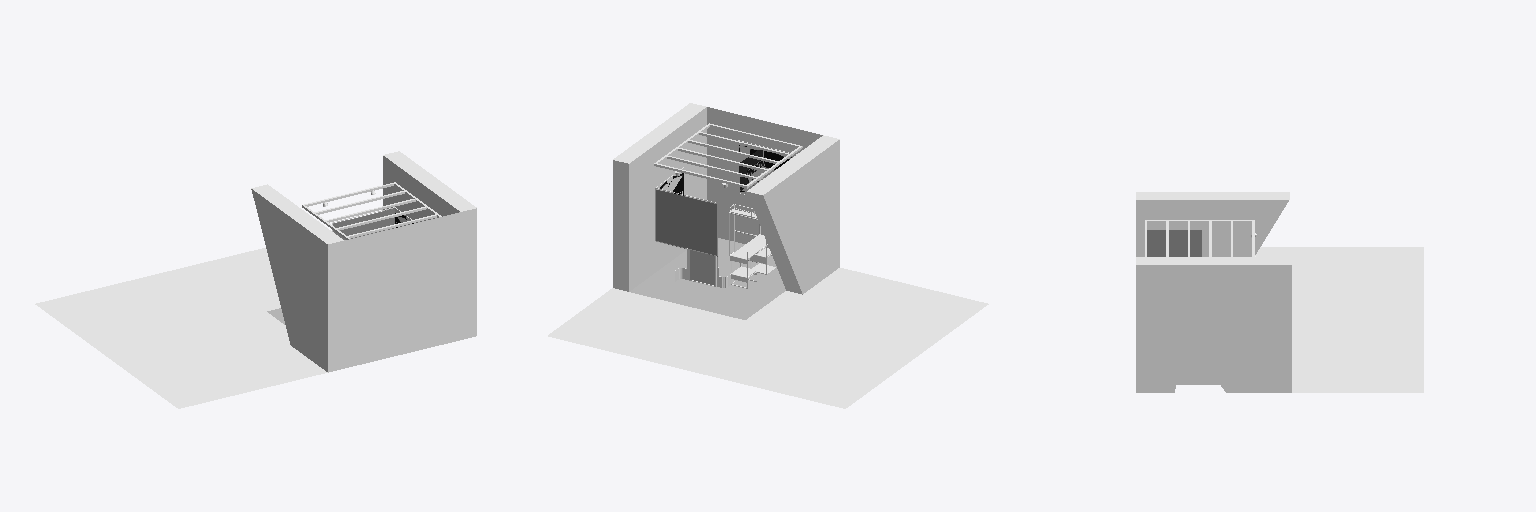
3 renders of one model, left to right at view 1: azimuth 30°, elevation 25°; view 2: azimuth 150°, elevation 25°; view 3: azimuth 270°, elevation 25°, orthographic.
Parts seen in each view (by area): view 1: Plane, Plane.3, Plane.1_1, Plane.5, Plane.1, Cube.3_1; view 2: Plane, Plane.1_1, Plane.5, Plane.1, Plane.3, Plane_1, Cube.3_1, Cube.1, 350mWall_cover; view 3: Plane.5, Plane, Plane.1, Plane.1_1, Cube.
Part boxes in pixels (x1,y1,x2,y2): Plane: (35,263,327,408); Plane.3: (345,212,460,367); Plane.1_1: (251,184,344,372); Plane.5: (383,151,476,339); Plane.1: (201,248,280,311); Cube.3_1: (333,209,394,239); Plane: (680,268,988,408); Plane.1_1: (747,135,839,294); Plane.5: (613,103,706,291); Plane.1: (548,288,744,368); Plane.3: (707,107,822,247); Plane_1: (630,238,785,319); Cube.3_1: (656,189,717,256); Cube.1: (739,145,791,194); 350mWall_cover: (690,250,714,285); Plane.5: (1136,257,1291,392); Plane: (1255,247,1423,327); Plane.1: (1292,328,1423,392); Plane.1_1: (1136,192,1289,256); Cube: (1147,230,1201,256).
Bounding box in the file's own units: 1440 × 590 × 1200.
9 materials, 2 textured.